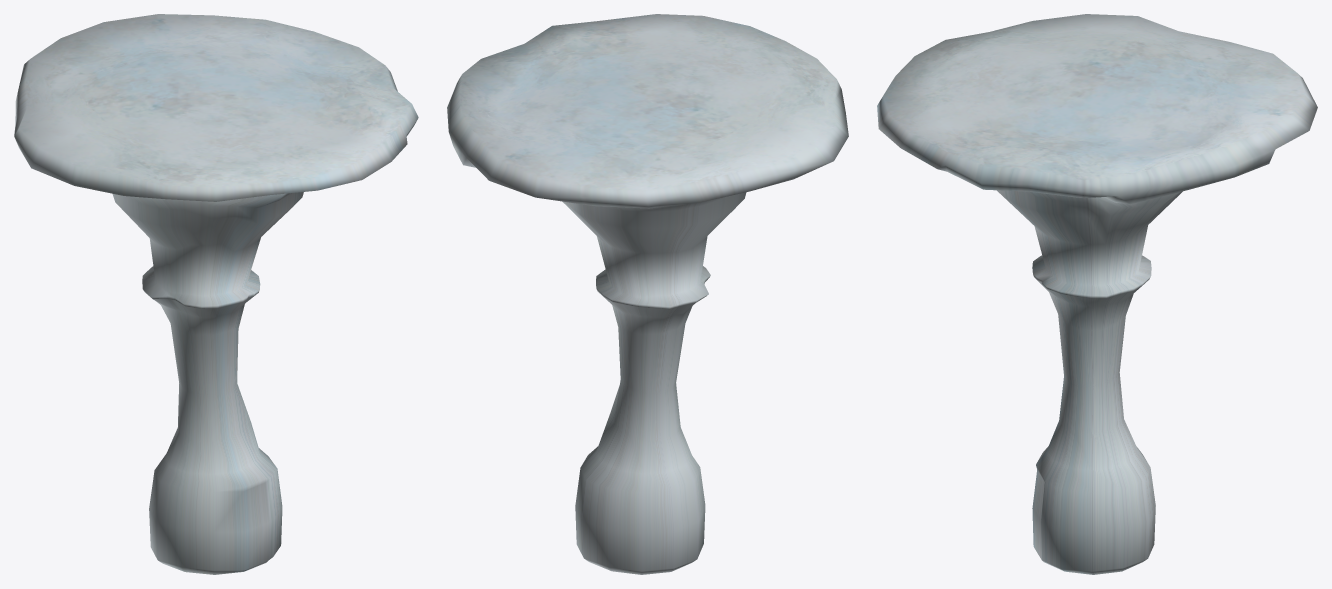
The model's file is P_RockDesert_Layered01.obj.
The picture shows the model from 3 angles, left to right: view 1: azimuth 30°, elevation 25°; view 2: azimuth 150°, elevation 25°; view 3: azimuth 270°, elevation 25°; orthographic projection.
Bounding box in the file's own units: 15.33 × 18.7 × 16.24.
